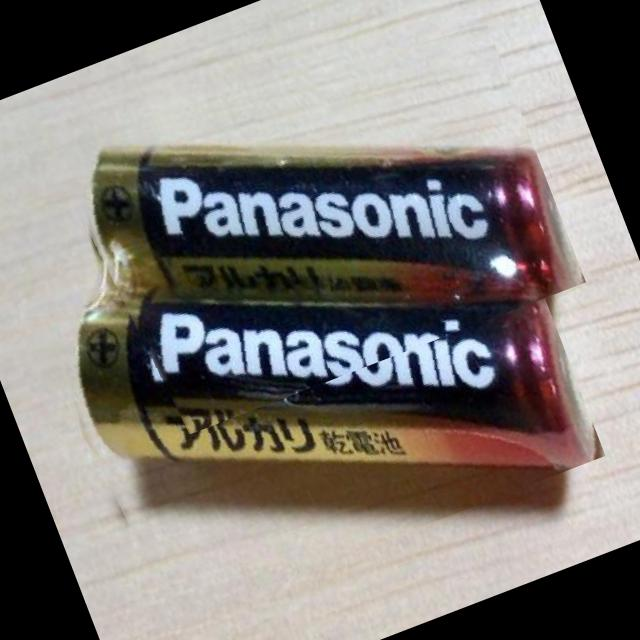Hazard: (24, 137, 606, 632), (52, 0, 586, 445)
